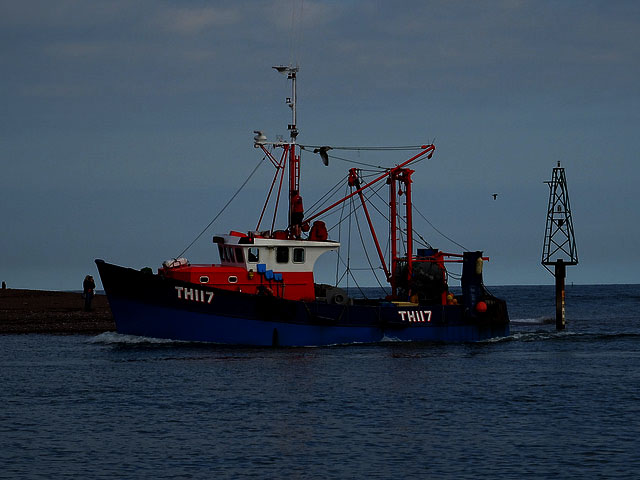fishing_boat: (93, 68, 518, 346)
